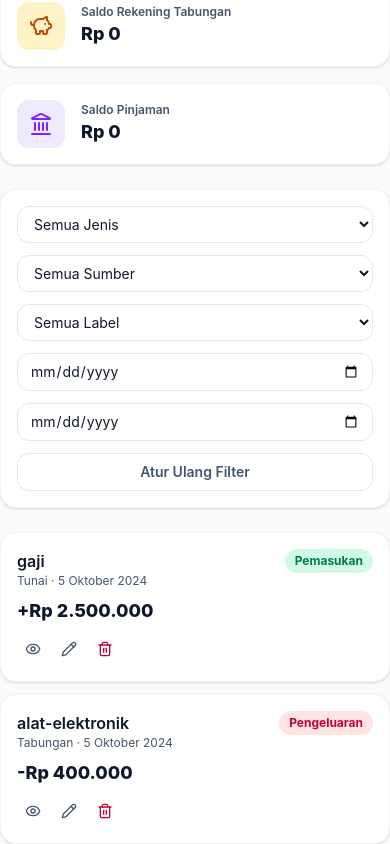
Scenario: HomePage › membuka modal ubah dari kartu
(page scrolled)
Click the button named "Ubah" below "+Rp 2.500.000".
click(69, 649)  # box [53,633,85,665]
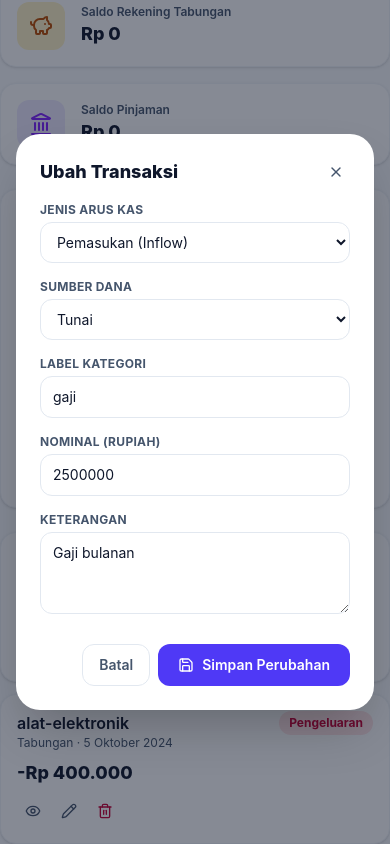
Check: the element with test id "change-modal" is shown
Check: the field with id "cf-label" holds "gaji", box [40,376,350,418]
